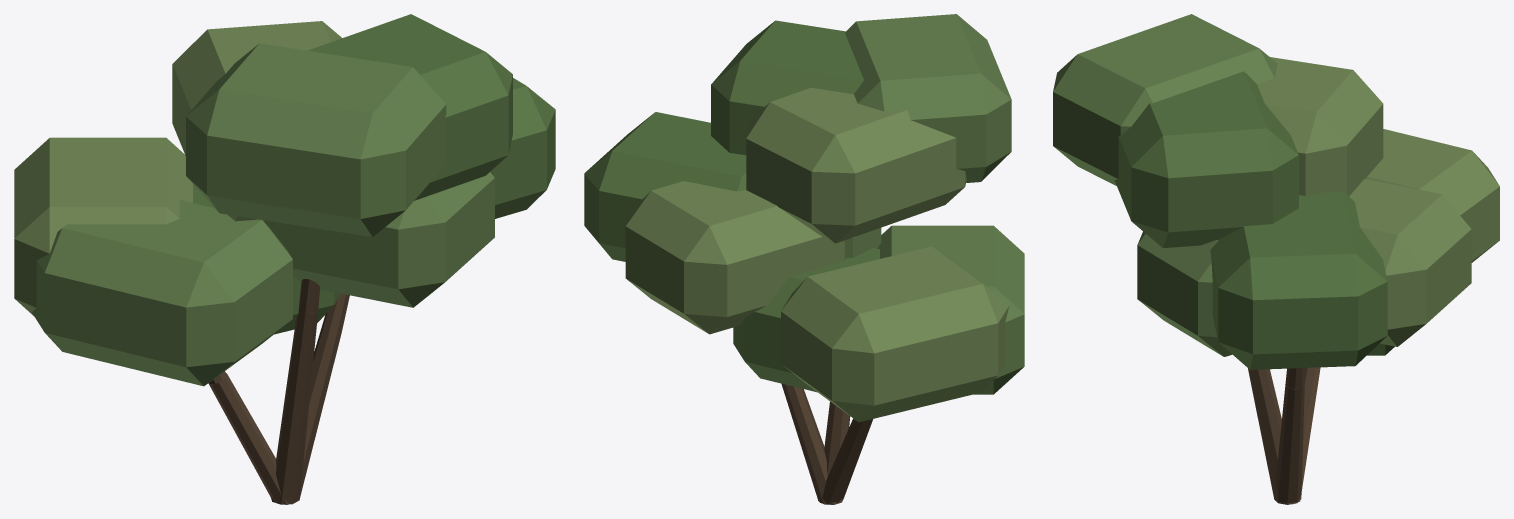
Rendered from blueberry_young_spring.glb.
3 views of the same model, side by side, from view 1: azimuth 30°, elevation 25°; view 2: azimuth 150°, elevation 25°; view 3: azimuth 270°, elevation 25° (orthographic). The views are drawn at different scales.
Parts seen in each view (by area): view 1: blueberry_young_spring; view 2: blueberry_young_spring; view 3: blueberry_young_spring.
Boxes of the visible parts, box(x1,y1,x2,y2) form: blueberry_young_spring: box(14, 14, 555, 504); blueberry_young_spring: box(584, 14, 1024, 504); blueberry_young_spring: box(1053, 14, 1499, 504).
Size of the model in its own units: 0.839 by 0.7926 by 0.7423.
